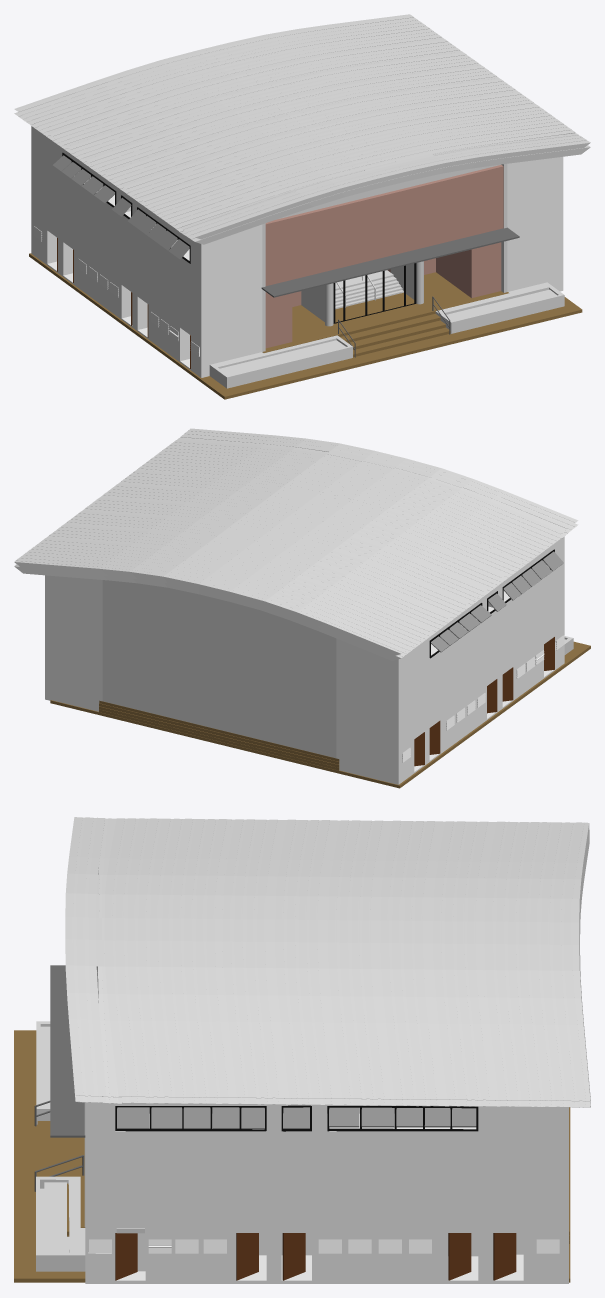
Rendered from gymnasium.fbx.
3 views of the same model, one above another, from view 1: azimuth 30°, elevation 25°; view 2: azimuth 150°, elevation 25°; view 3: azimuth 270°, elevation 25° (orthographic). The views are drawn at different scales.
Parts seen in each view (by area): view 1: Cube.019, Cube.028, Cube.011, Cube.039, Cube.091, Cube.041, Cube.004, Cube.042, Cube.040, Cube.010, Cube.024, Cube.001 (+2 smaller); view 2: Cube.019, Cube.028, Cube.003, Cube.091, Cube.039, Cube.004, Cube.005; view 3: Cube.019, Cube.091, Cube.039, Cube.040, Cube.042, Cube.004, Cube.041.
Boxes of the visible parts, x1,y1,x2,y2 form: Cube.019: [14, 14, 590, 239]; Cube.028: [31, 126, 262, 377]; Cube.011: [265, 164, 503, 348]; Cube.039: [29, 253, 582, 399]; Cube.091: [507, 157, 563, 291]; Cube.041: [209, 335, 352, 388]; Cube.004: [14, 112, 590, 244]; Cube.042: [261, 227, 519, 297]; Cube.040: [435, 282, 564, 333]; Cube.010: [276, 164, 500, 219]; Cube.024: [333, 263, 416, 323]; Cube.001: [501, 164, 507, 292]; Cube.019: [14, 428, 578, 656]; Cube.028: [336, 536, 564, 784]; Cube.003: [103, 580, 335, 758]; Cube.091: [45, 575, 102, 711]; Cube.039: [50, 641, 590, 788]; Cube.004: [14, 523, 578, 660]; Cube.005: [118, 581, 310, 628]; Cube.019: [65, 817, 590, 1101]; Cube.091: [85, 1102, 568, 1283]; Cube.039: [14, 1030, 570, 1282]; Cube.040: [36, 1176, 85, 1271]; Cube.042: [50, 965, 85, 1137]; Cube.004: [65, 838, 590, 1107]; Cube.041: [36, 1021, 50, 1124].
Bounding box in the file's own units: 3068 × 1230 × 2713.
